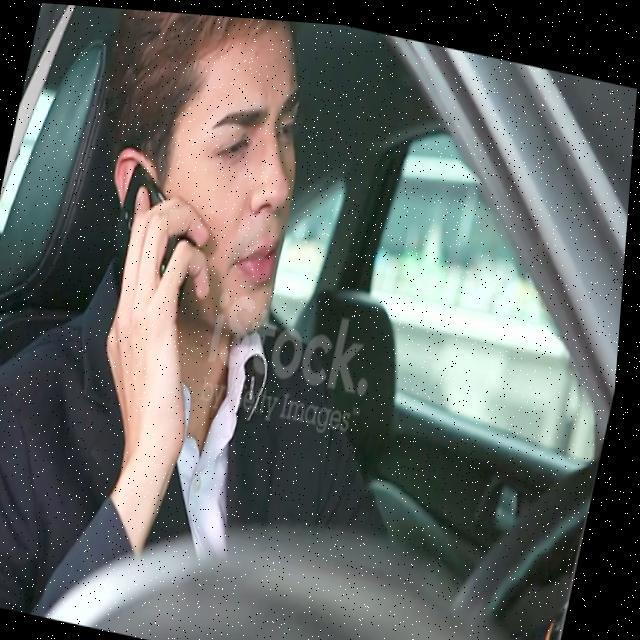PhoneCall: (109, 160, 213, 300)
